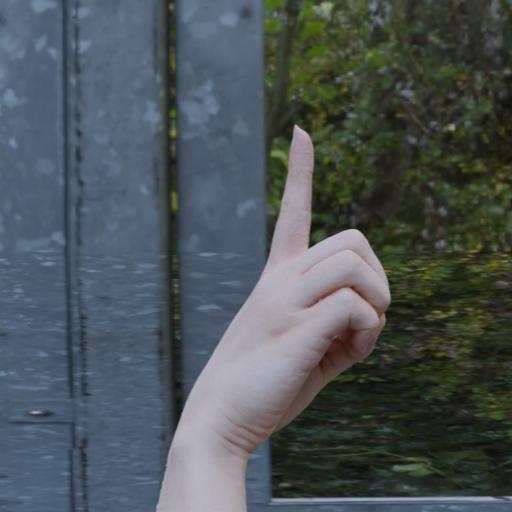D: (168, 118, 397, 444)
